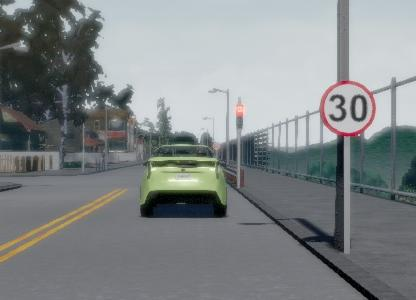Speed_30: (317, 77, 378, 142)
